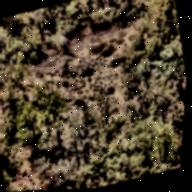boar: (54, 33, 76, 57)
